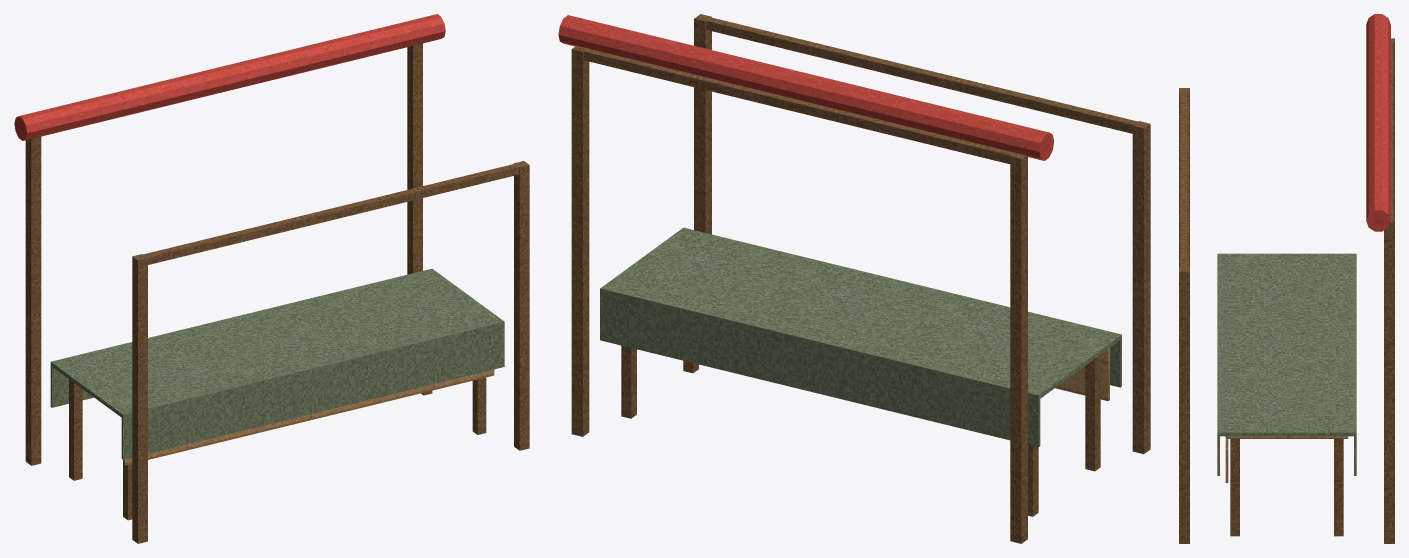
3 views of the same model, side by side, from view 1: azimuth 30°, elevation 25°; view 2: azimuth 150°, elevation 25°; view 3: azimuth 270°, elevation 25° (orthographic). The views are drawn at different scales.
Visible parts, largest first — view 1: Decor_market_stall_folded; view 2: Decor_market_stall_folded; view 3: Decor_market_stall_folded.
Part boxes in pixels (bbox=[...]): Decor_market_stall_folded: bbox=[14, 14, 529, 543]; Decor_market_stall_folded: bbox=[558, 14, 1150, 543]; Decor_market_stall_folded: bbox=[1179, 14, 1394, 543].
Bounding box in the file's own units: 3.4 × 2.75 × 1.58.
4 materials, 4 textured.
